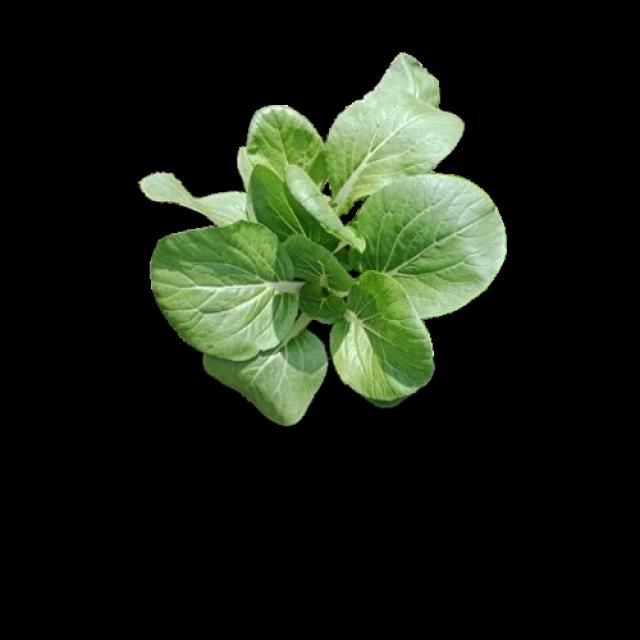healthy: (147, 69, 506, 431)
not-mature: (141, 56, 508, 434)
